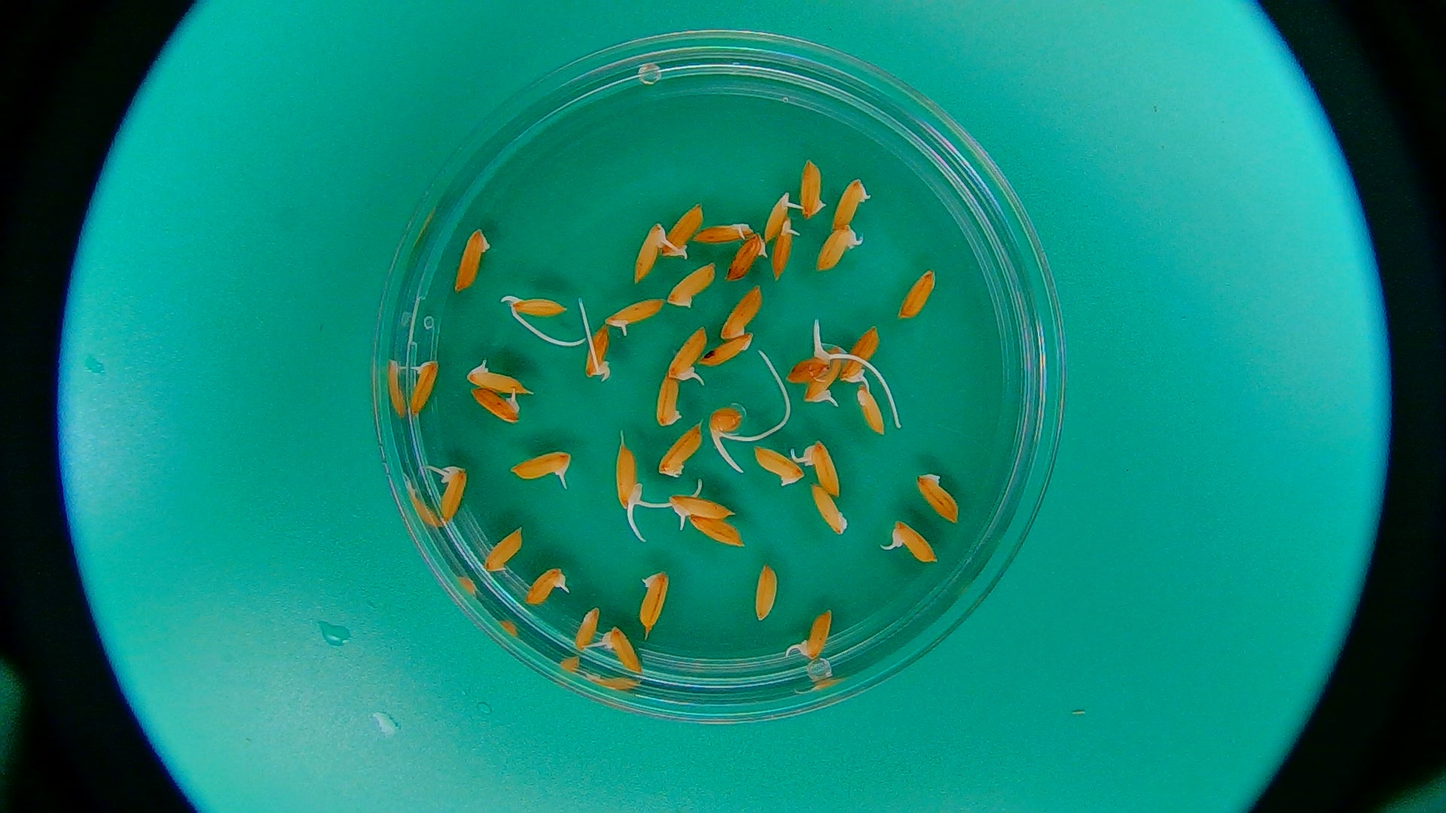no: (451, 227, 491, 295), (721, 282, 765, 341), (657, 426, 706, 477), (853, 379, 892, 440), (753, 446, 804, 492), (916, 472, 960, 524), (483, 525, 527, 574), (669, 263, 718, 306), (831, 179, 872, 229), (639, 569, 669, 635), (811, 483, 849, 534), (898, 270, 938, 318), (688, 514, 746, 547), (752, 561, 780, 623), (701, 334, 752, 364), (801, 159, 825, 219), (655, 377, 682, 426), (574, 604, 600, 650)
yes: (785, 318, 842, 385), (839, 333, 883, 393), (662, 203, 704, 260), (633, 224, 674, 282), (615, 443, 647, 516), (668, 329, 706, 388), (802, 440, 840, 495), (511, 449, 570, 483), (800, 610, 837, 664), (817, 227, 863, 269), (436, 466, 468, 525), (602, 297, 657, 331), (471, 388, 521, 425), (406, 359, 439, 415), (889, 524, 936, 563), (601, 626, 642, 670), (466, 361, 522, 392), (525, 567, 566, 608), (508, 294, 570, 320), (667, 497, 731, 522), (728, 236, 764, 279), (697, 220, 757, 245), (705, 405, 744, 441), (763, 190, 790, 242), (585, 327, 611, 380), (771, 216, 792, 278), (804, 365, 837, 403)
